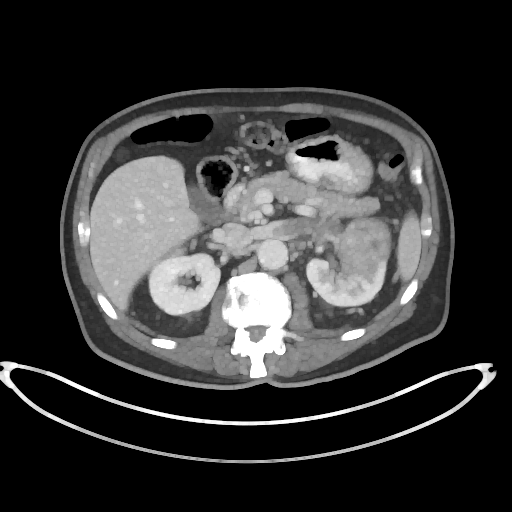Lesion: (336, 214, 394, 280)
